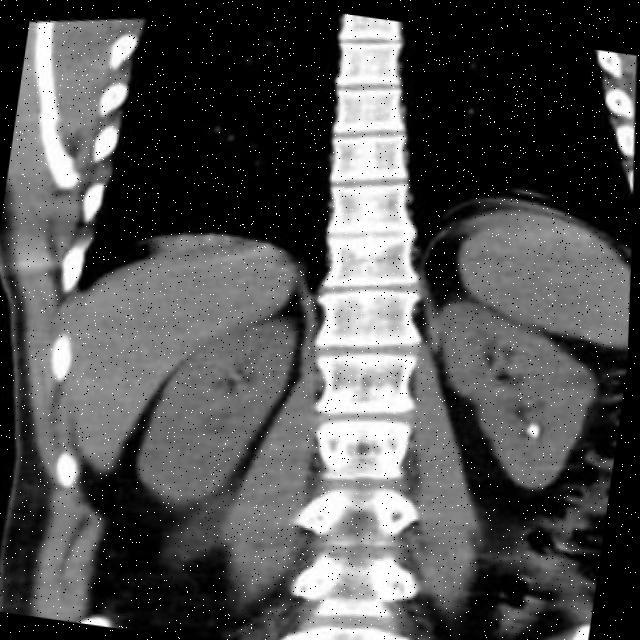Tas_Var: (527, 412, 551, 441)
